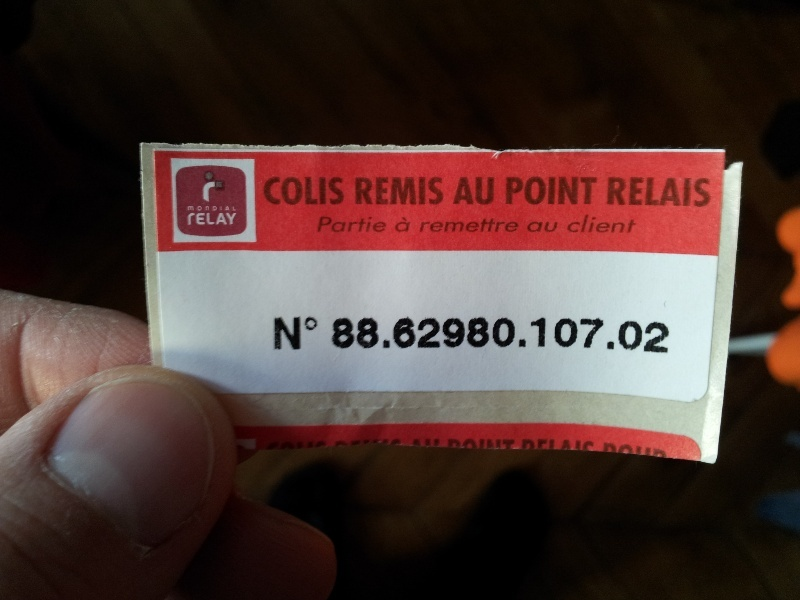text: (273, 314, 288, 355), (289, 314, 304, 355), (305, 314, 320, 355), (321, 314, 336, 355), (337, 314, 352, 355), (353, 314, 368, 355), (369, 314, 384, 355), (385, 314, 400, 355), (401, 314, 416, 355), (417, 314, 432, 355), (433, 314, 448, 355), (449, 314, 464, 355), (465, 314, 480, 355), (481, 314, 496, 355), (497, 314, 512, 355), (513, 314, 528, 355), (529, 314, 544, 355), (545, 314, 560, 355), (561, 314, 576, 355), (577, 314, 592, 355), (593, 314, 608, 355), (609, 314, 624, 355), (625, 314, 640, 355), (641, 314, 656, 355), (657, 314, 672, 355), (609, 176, 624, 208), (625, 176, 640, 208), (641, 176, 656, 208), (657, 176, 672, 208), (673, 176, 688, 208), (689, 176, 704, 208), (273, 176, 288, 206), (289, 176, 304, 206), (305, 176, 320, 206), (321, 176, 336, 206), (465, 177, 480, 207), (481, 177, 496, 207), (513, 176, 528, 206), (529, 176, 544, 206), (545, 176, 560, 206), (561, 176, 576, 206), (577, 176, 592, 206), (369, 176, 384, 206), (385, 176, 400, 206), (401, 176, 416, 206), (417, 176, 432, 206), (354, 176, 368, 206), (433, 176, 445, 206), (577, 212, 592, 235), (593, 212, 608, 235), (609, 212, 624, 235), (321, 214, 336, 234), (337, 214, 352, 234), (353, 214, 368, 234), (369, 214, 384, 234), (625, 212, 637, 235), (263, 176, 272, 206), (337, 176, 345, 206), (433, 218, 448, 234), (449, 218, 464, 234), (465, 218, 480, 234), (481, 218, 496, 234), (497, 218, 512, 234), (529, 219, 544, 234), (193, 211, 208, 226), (209, 211, 224, 226), (705, 176, 712, 208), (457, 177, 464, 207), (505, 176, 512, 206), (401, 217, 414, 233), (545, 219, 558, 234), (225, 211, 237, 226), (421, 218, 432, 234), (593, 176, 598, 206), (513, 218, 521, 234), (193, 205, 208, 212), (209, 205, 224, 212), (394, 217, 400, 233), (572, 212, 576, 235), (225, 205, 238, 212), (385, 214, 388, 234), (188, 211, 192, 226), (184, 205, 192, 212), (607, 176, 608, 208)
